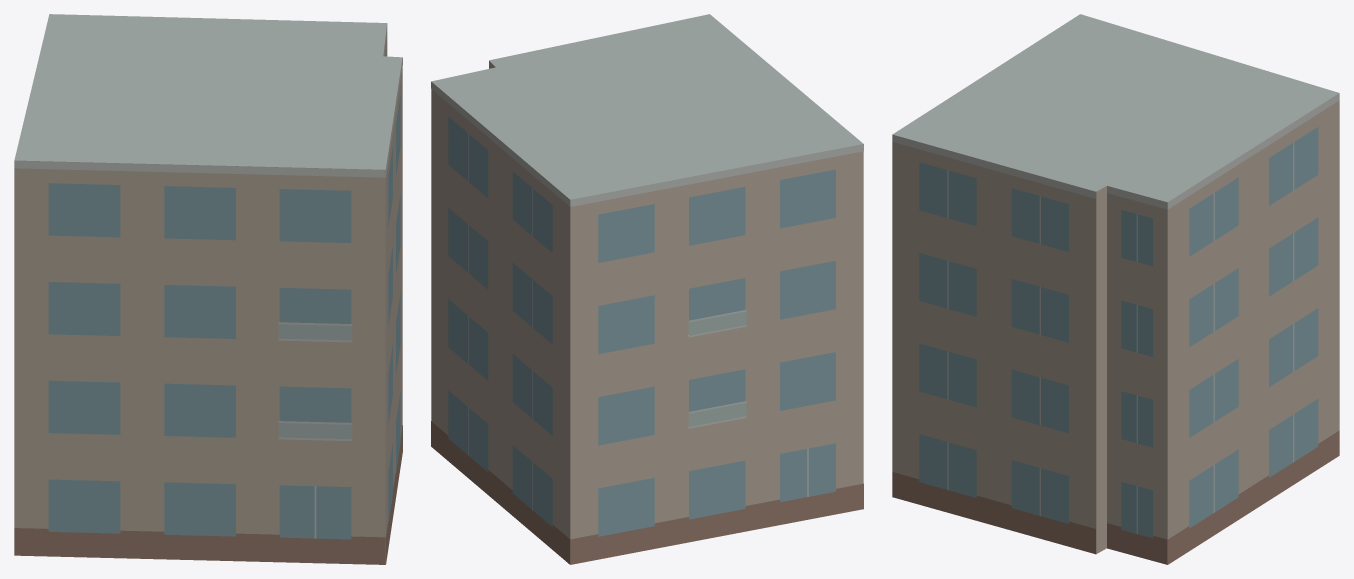
Rendered from survey-upis-32606280.glb.
3 views of the same model, side by side, from view 1: azimuth 30°, elevation 25°; view 2: azimuth 150°, elevation 25°; view 3: azimuth 270°, elevation 25° (orthographic). The views are drawn at different scales.
Visible parts, largest first — view 1: survey-upis-32606280.tmp; view 2: survey-upis-32606280.tmp; view 3: survey-upis-32606280.tmp.
Part boxes in pixels (box(x1,y1,x2,y2)): survey-upis-32606280.tmp: box(14, 14, 402, 564); survey-upis-32606280.tmp: box(431, 14, 863, 564); survey-upis-32606280.tmp: box(892, 14, 1339, 564).
Bounding box in the file's own units: 13.6 × 12.2 × 13.65.
